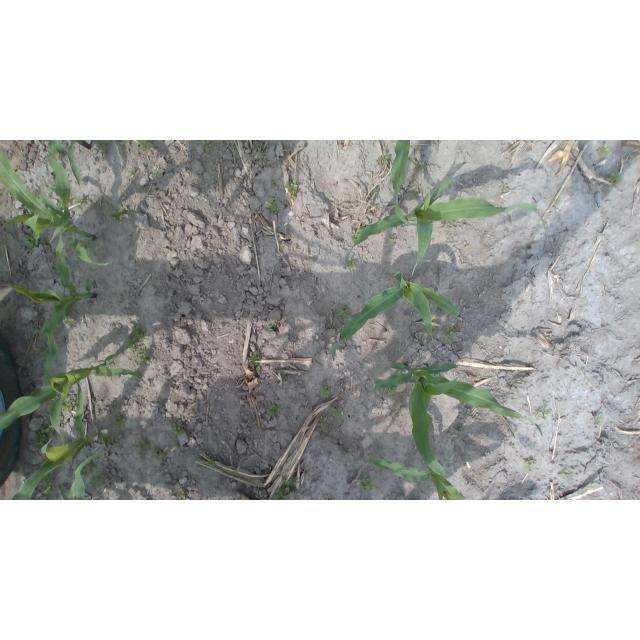Maize: (345, 178, 548, 280), (374, 359, 545, 475), (0, 328, 148, 430), (6, 223, 96, 381), (0, 149, 116, 265), (12, 373, 109, 500), (330, 272, 461, 361), (366, 455, 468, 500), (59, 451, 107, 500), (46, 141, 91, 186), (391, 141, 413, 228)
Weeds: (124, 323, 153, 367), (33, 421, 55, 451), (38, 472, 57, 501), (108, 204, 129, 225), (81, 238, 104, 257), (361, 473, 378, 491), (24, 232, 41, 249), (377, 148, 392, 166), (31, 342, 49, 357), (267, 196, 282, 214), (286, 180, 299, 200), (60, 396, 76, 412), (271, 487, 290, 500), (336, 305, 351, 320), (596, 142, 610, 158), (268, 404, 285, 417), (171, 425, 189, 437), (95, 140, 113, 152), (607, 172, 621, 187), (57, 317, 76, 328), (281, 477, 300, 488), (532, 408, 550, 419), (561, 467, 575, 480), (328, 408, 342, 421), (151, 446, 165, 459), (136, 440, 150, 453), (135, 140, 153, 150), (88, 475, 105, 485), (524, 459, 537, 472), (443, 328, 455, 341), (113, 417, 126, 429), (411, 158, 425, 169), (36, 324, 45, 341), (440, 220, 456, 229), (201, 140, 213, 152), (252, 352, 261, 365), (320, 386, 329, 399), (345, 257, 355, 268), (127, 167, 137, 178), (177, 491, 189, 500), (48, 180, 57, 192), (594, 414, 604, 424), (75, 195, 85, 205), (352, 231, 361, 242), (82, 467, 93, 476), (247, 416, 257, 425), (104, 435, 113, 445), (388, 386, 397, 395), (500, 182, 509, 191), (120, 141, 131, 148), (439, 308, 447, 317), (267, 322, 277, 329), (272, 176, 279, 186), (388, 236, 395, 245), (209, 459, 216, 467), (47, 234, 54, 242), (361, 223, 369, 229), (456, 431, 465, 436), (31, 278, 38, 284), (255, 366, 261, 372), (555, 200, 560, 205), (280, 245, 285, 250), (371, 140, 379, 142), (372, 188, 376, 192)
